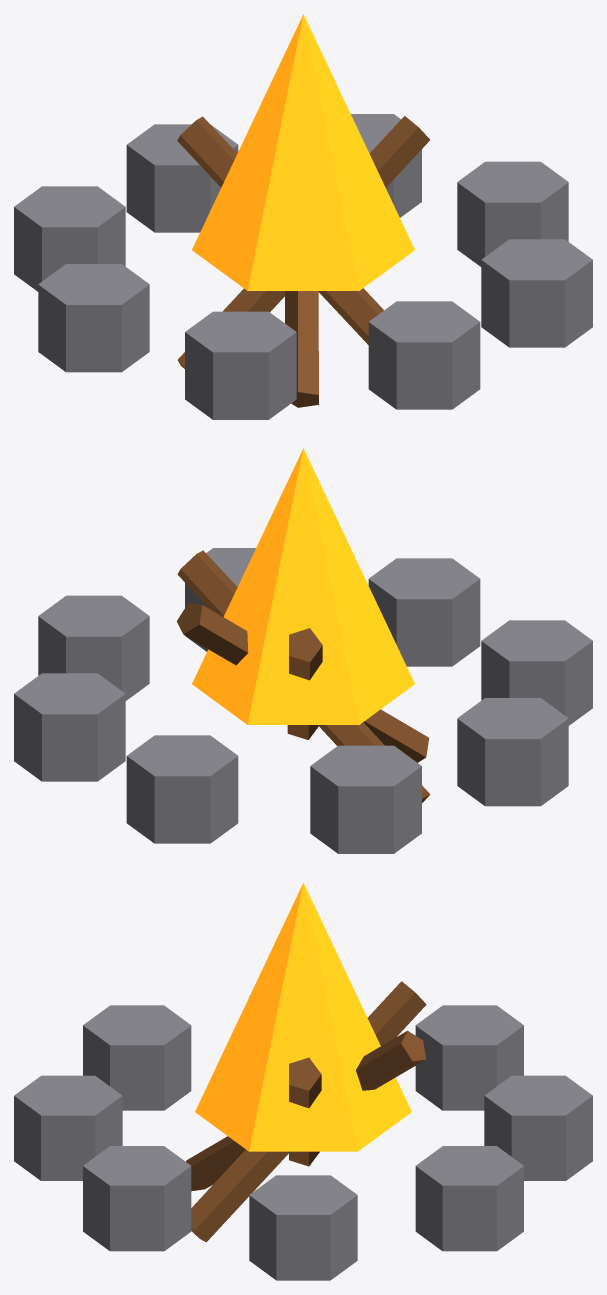
The model's file is v_firepit.glb.
The picture shows the model from 3 angles, top to bottom: view 1: azimuth 30°, elevation 25°; view 2: azimuth 150°, elevation 25°; view 3: azimuth 270°, elevation 25°; orthographic projection. The views are drawn at different scales.
Visible parts, largest first — view 1: firepit; view 2: firepit; view 3: firepit.
Boxes of the visible parts, x1,y1,x2,y2 form: firepit: [14, 14, 592, 419]; firepit: [14, 448, 592, 853]; firepit: [14, 882, 592, 1280].
Bounding box in the file's own units: 1.56 × 1.02 × 1.6.
